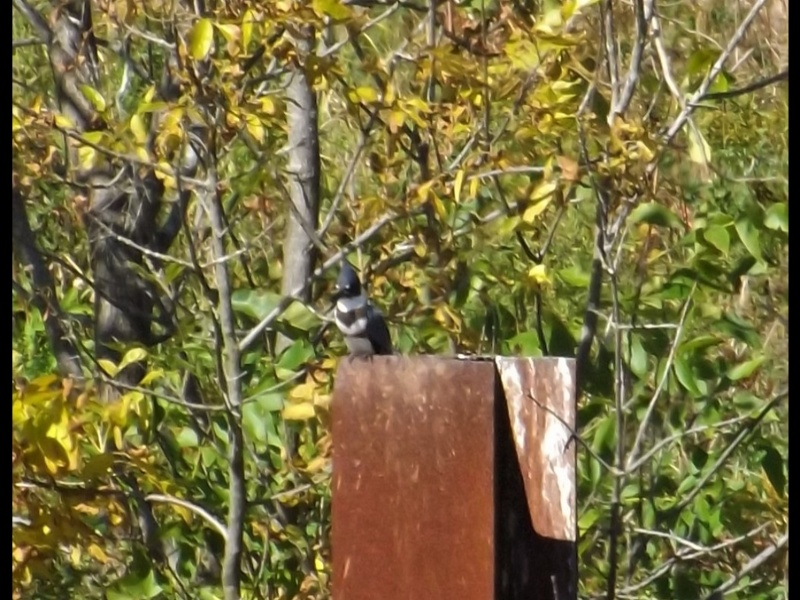kingfisher: (325, 262, 393, 357)
